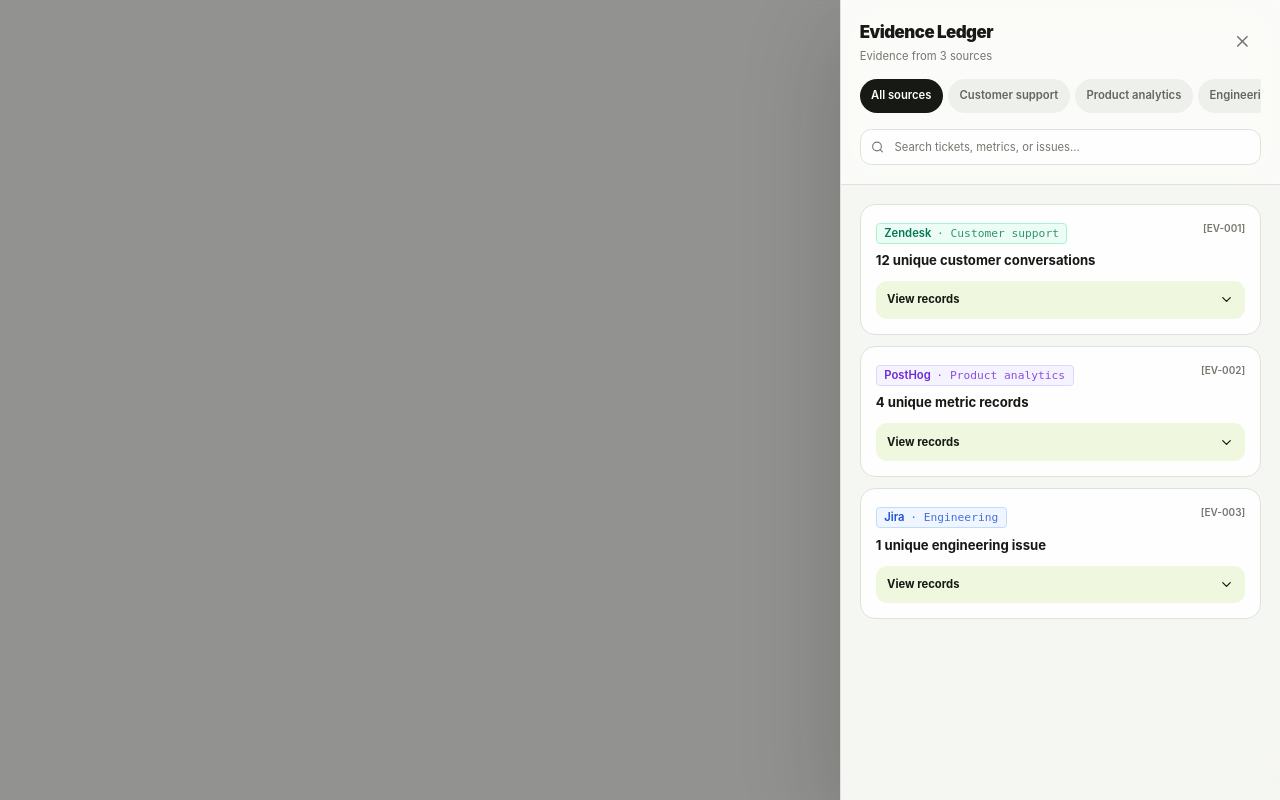
Investigation Workspace Components › EvidenceLedgerDrawer › filters cards by search query input
Type "PAY-117" into the search field with placeholder "Search tickets, metrics, or issues…" at (1061, 147), box [860,129,1261,165]
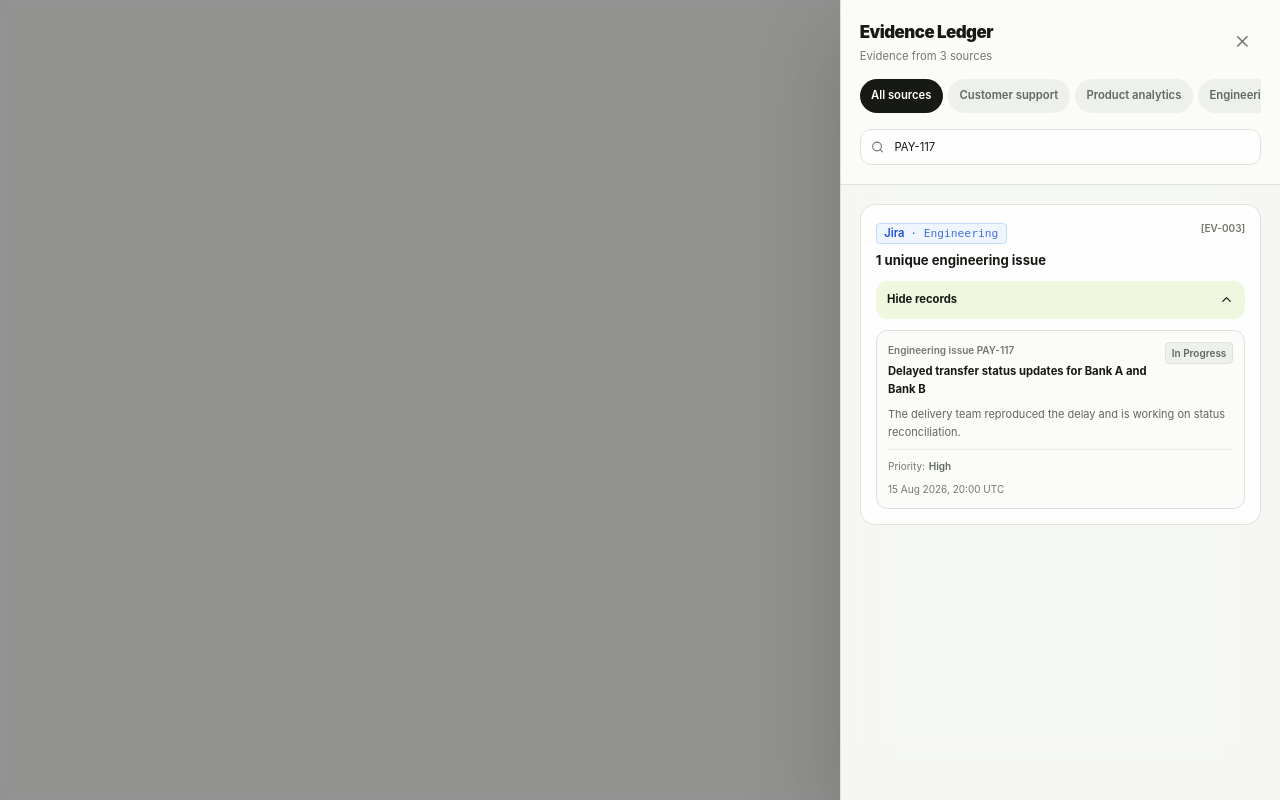
Expected: the text "[EV-003]" is shown, [1201,220,1245,236]
Expected: the text "[EV-001]" is gone
